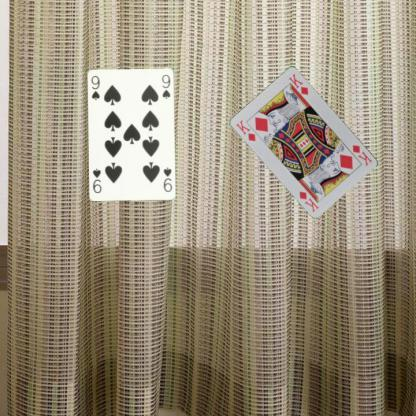9s: (88, 73, 100, 101), (161, 165, 173, 193)
Kd: (350, 142, 374, 167), (234, 117, 257, 143)
